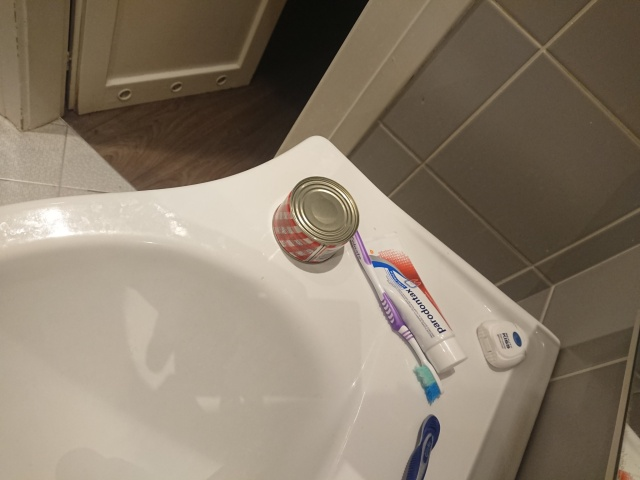Podravka Luncheon Meat 150g: (270, 174, 361, 266)
